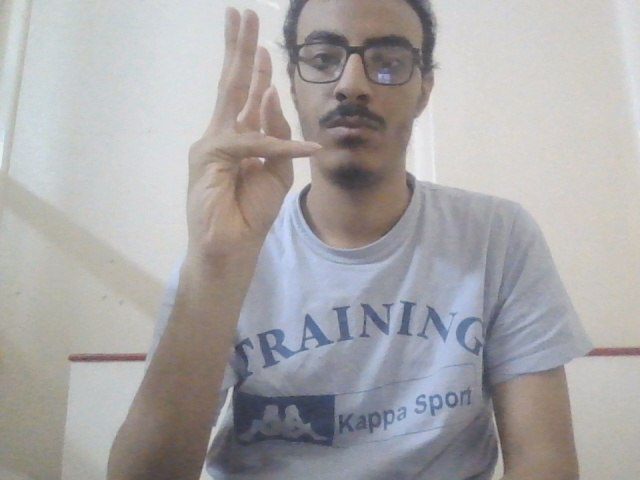Water: (172, 5, 327, 252)
